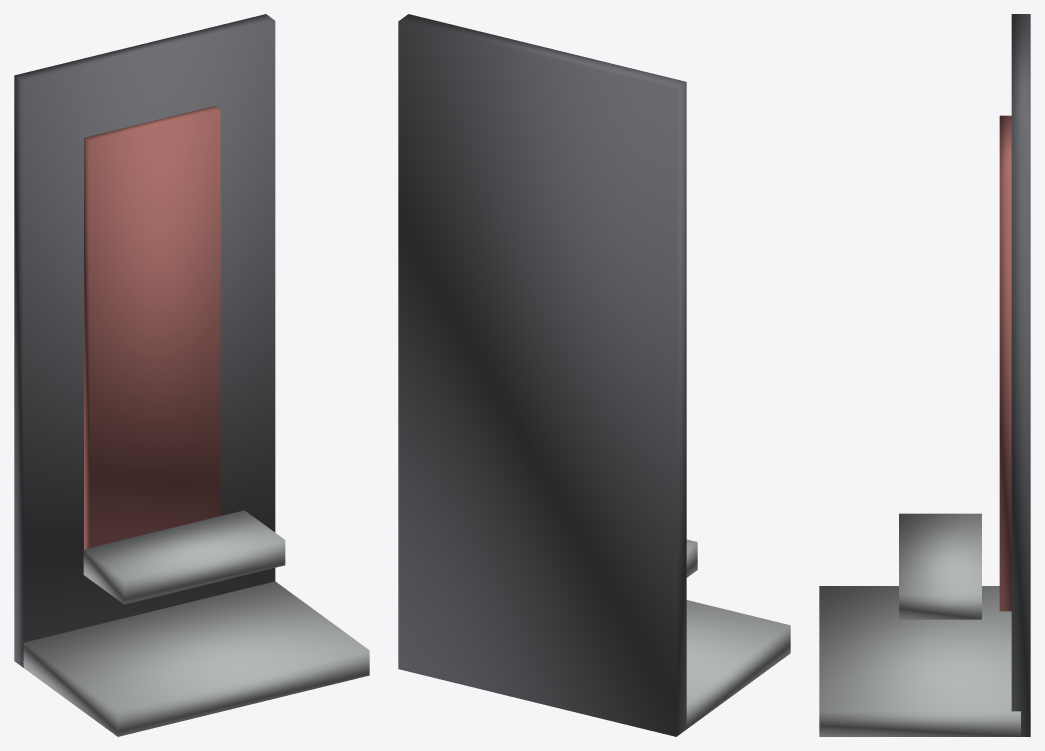
File: roof_access_hatch_stair_10.glb
The picture shows the model from 3 angles, left to right: view 1: azimuth 30°, elevation 25°; view 2: azimuth 150°, elevation 25°; view 3: azimuth 270°, elevation 25°; orthographic projection. The views are drawn at different scales.
Parts seen in each view (by area): view 1: world; view 2: world; view 3: world.
Boxes of the visible parts, x1,y1,x2,y2 form: world: [14, 14, 369, 736]; world: [398, 14, 790, 736]; world: [819, 14, 1030, 736].
Size of the model in its own units: 1.25 by 2.78 by 0.89.
